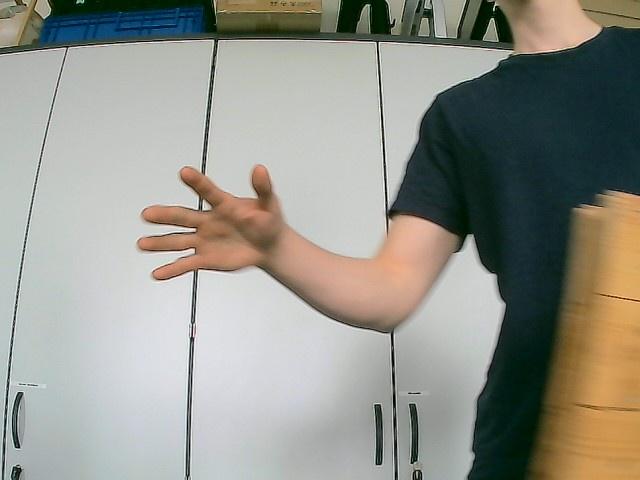no_gesture: (136, 163, 286, 282)
